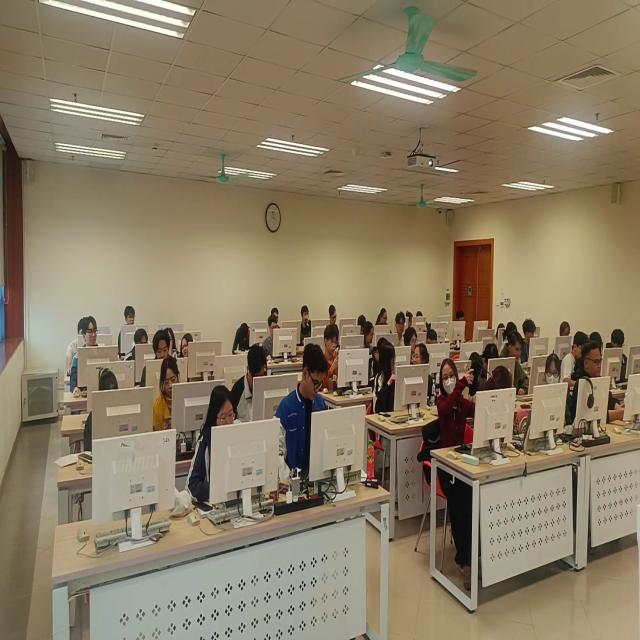raise_hand: (438, 357, 475, 452)
raise_head: (70, 316, 99, 393), (119, 305, 136, 359), (301, 306, 312, 346), (394, 312, 406, 347), (272, 308, 282, 329)
using_computer: (274, 343, 331, 486), (185, 386, 239, 507), (573, 342, 632, 427), (230, 344, 269, 425), (85, 369, 120, 453), (154, 357, 181, 433), (500, 331, 530, 395), (141, 330, 170, 389), (561, 332, 590, 383), (470, 344, 500, 391), (607, 330, 633, 383), (67, 318, 88, 377), (368, 338, 389, 387), (125, 328, 150, 363), (263, 316, 280, 360), (522, 320, 539, 364), (457, 311, 476, 345), (554, 320, 571, 355), (233, 323, 252, 354), (166, 329, 180, 357), (362, 322, 376, 349), (405, 328, 419, 350), (376, 308, 391, 328), (329, 305, 340, 327), (426, 330, 439, 346), (505, 323, 518, 339), (496, 324, 506, 344), (358, 316, 367, 335), (591, 332, 604, 344), (417, 312, 425, 318)
using_phone: (320, 326, 341, 394)
